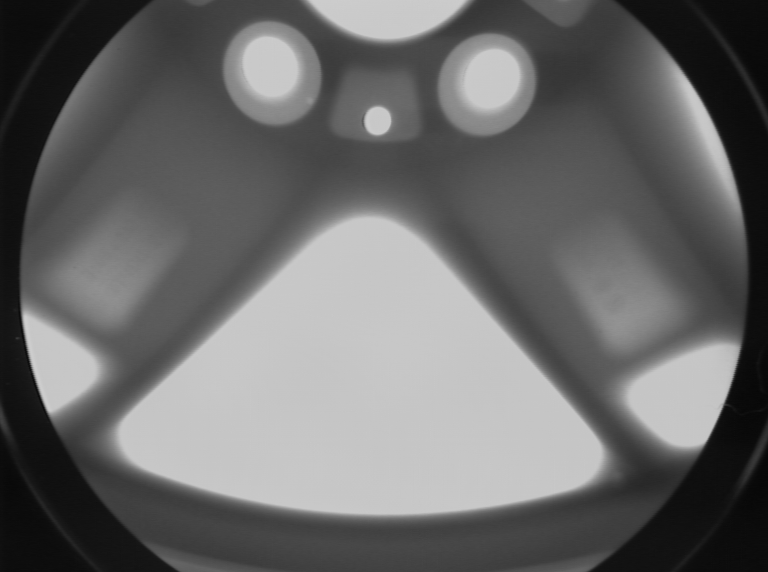defect: (303, 93, 320, 108)
